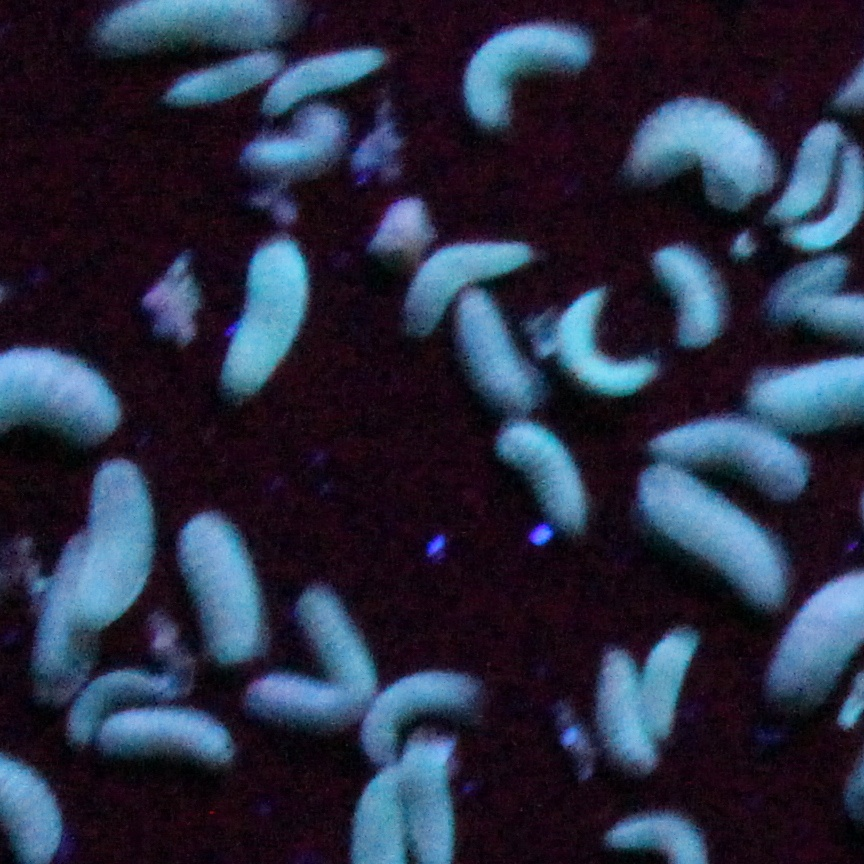larve: (613, 85, 773, 211), (453, 17, 597, 141), (222, 225, 308, 432), (646, 488, 780, 611), (167, 513, 264, 669), (73, 459, 155, 624), (494, 415, 594, 534), (450, 297, 557, 406), (574, 650, 652, 778), (643, 243, 729, 350), (564, 292, 641, 404), (645, 436, 802, 487), (306, 559, 362, 696), (273, 50, 392, 103), (392, 663, 478, 733), (110, 720, 229, 766), (167, 48, 271, 99), (660, 634, 711, 738), (418, 246, 529, 292), (235, 699, 355, 739), (788, 125, 836, 222)
